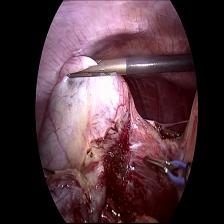Bipolar: (141, 152, 193, 186)
Grasper: (61, 54, 131, 82)
